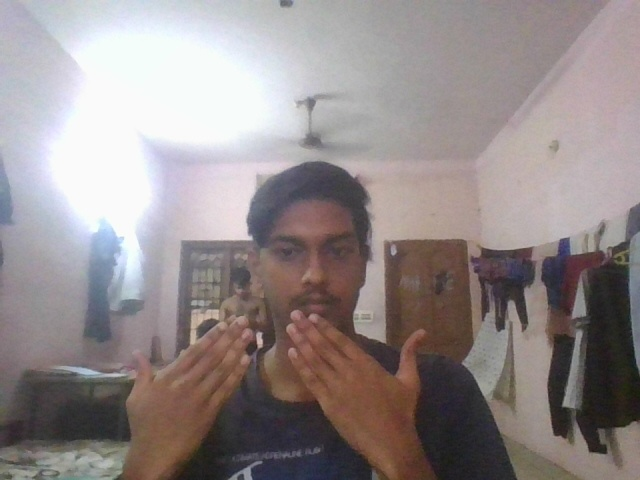thankyou: (118, 311, 429, 452)
